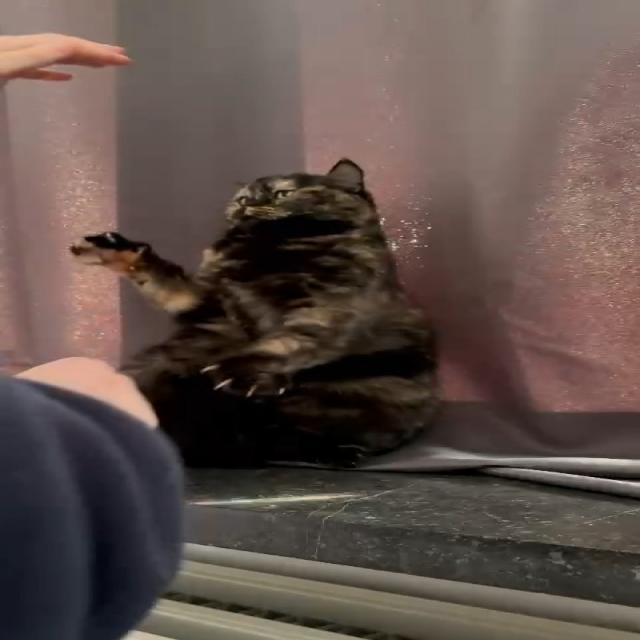authorized: (66, 156, 442, 470)
